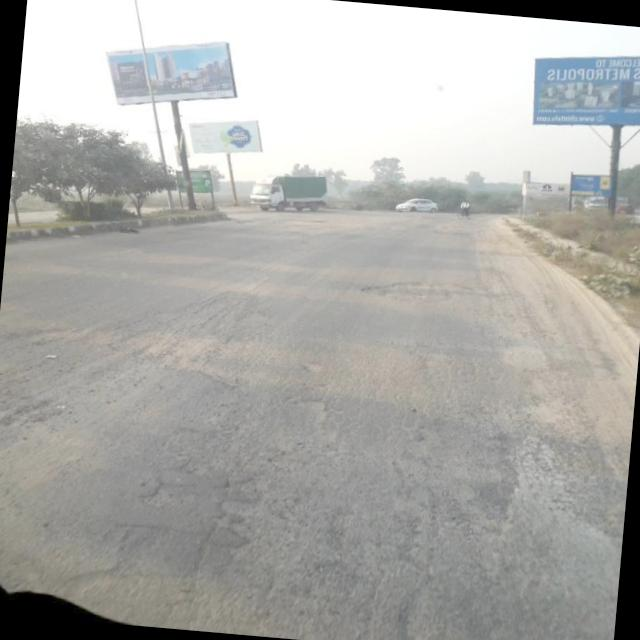crack: (194, 312, 524, 493)
pothole: (355, 452, 480, 640), (122, 440, 266, 549), (351, 258, 492, 308), (260, 387, 354, 457)
